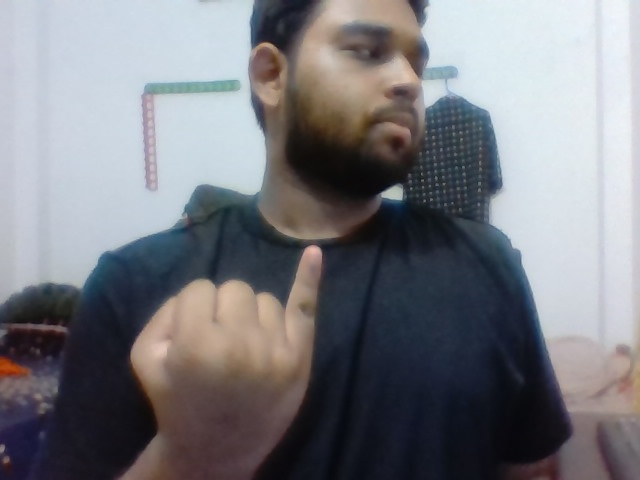I: (119, 235, 334, 440)
